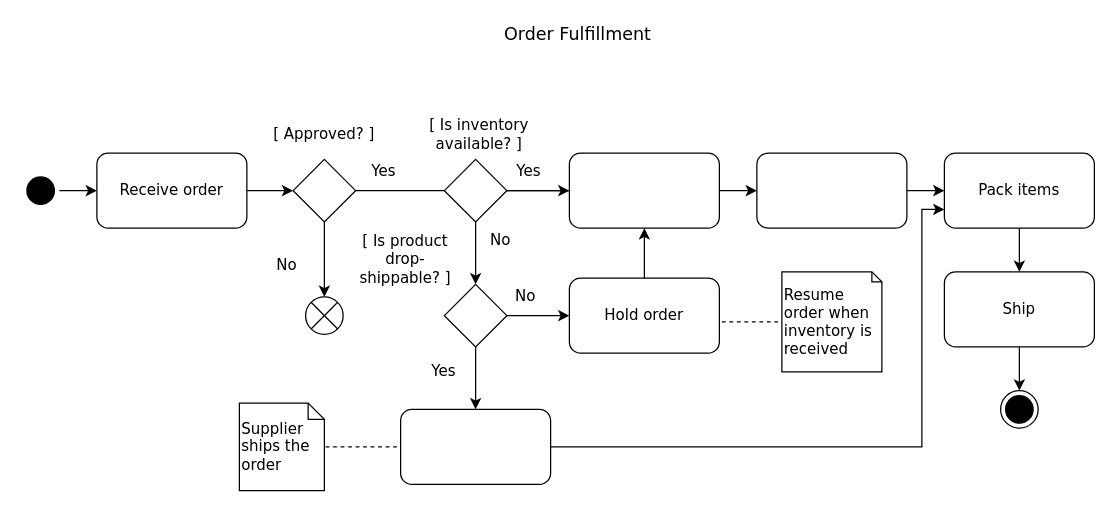
Some shapes in this 1116 by 513 pixel diagram are drawn without their labels. Here are the shapes that lost their labels. From the top down, the box of each, then its label:
(568, 152, 719, 228): Reserve inventory
(756, 152, 907, 228): Pick items
(399, 408, 551, 484): Notify supplier about order
